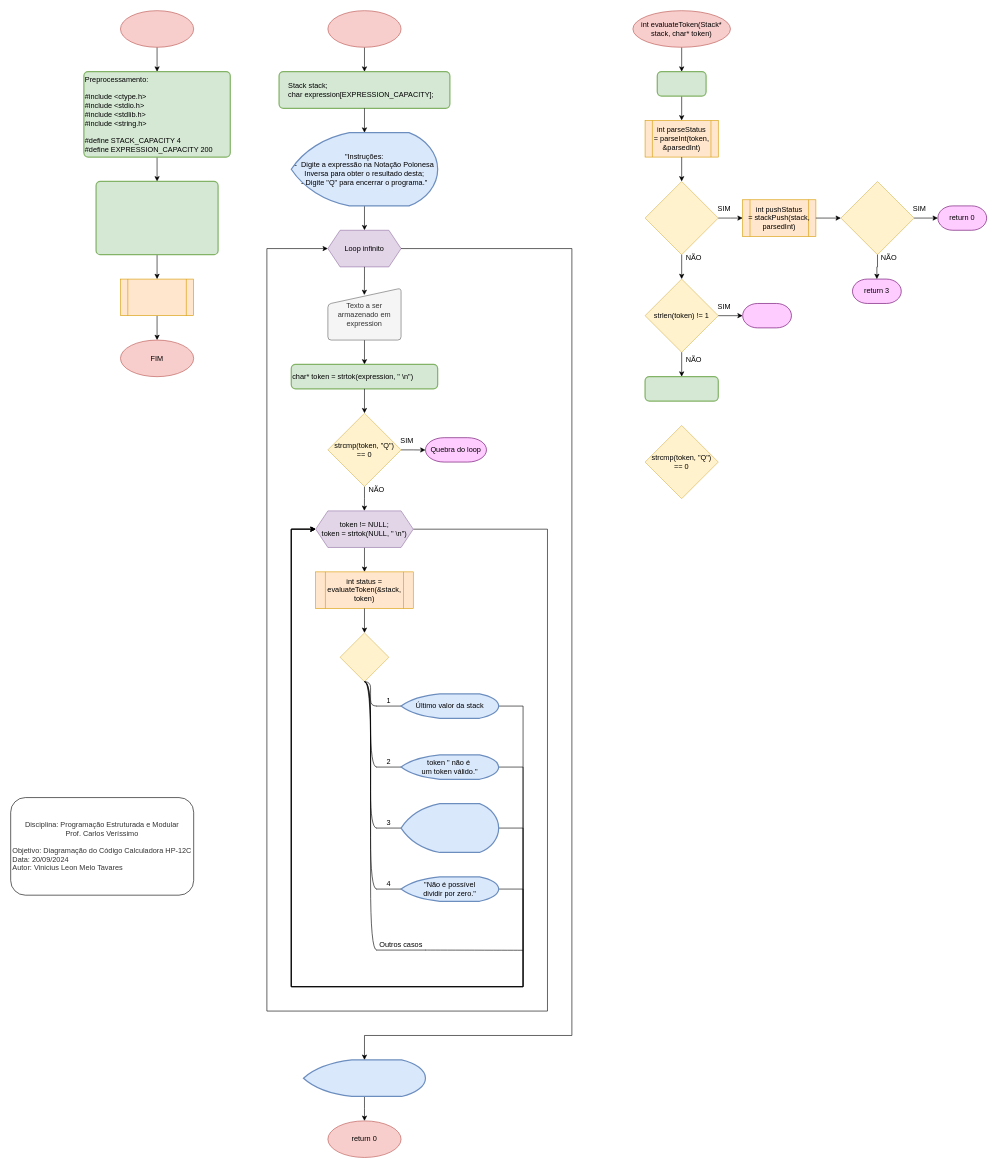
Image size: 997x1168. Some labels were removed from this diagram. The box of each missing label's shape, as (x1, y1, x2, y2) in pixels:
"Não foi possível empilhar " token ", e portanto o processo foi interrompido": (400, 803, 499, 853)
"Obrigado por usar nossa Calculadora Fatec-HP12c": (303, 1059, 426, 1097)
Definição de Tipos: typedef struct { int inner[STACK_CAPACITY] int len } Stack: (95, 181, 218, 255)
int main(): (327, 10, 401, 47)
int parsedInt;: (656, 71, 706, 96)
int result, operando1, operando2: (644, 376, 719, 401)
INÍCIO: (120, 10, 194, 47)
main(): (120, 278, 194, 316)
parseStatus == 0: (644, 181, 718, 255)
pushStatus == 0: (840, 181, 914, 255)
return 2: (742, 303, 791, 328)
status: (339, 632, 389, 682)
